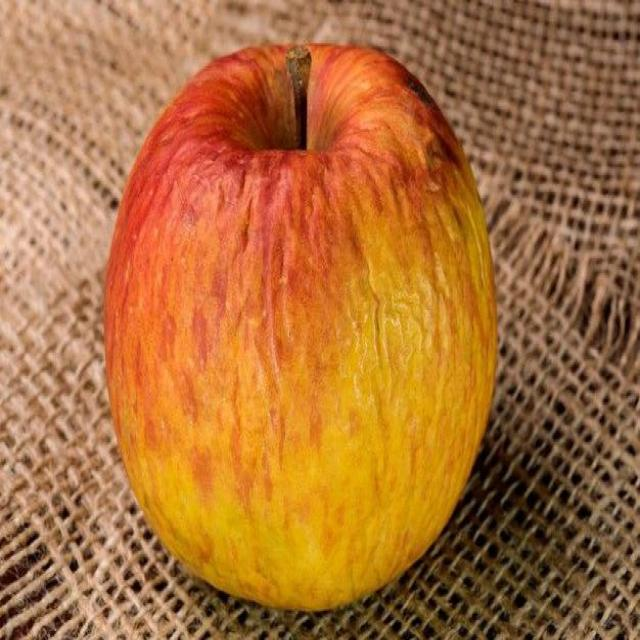Rotten: (133, 48, 500, 640)
